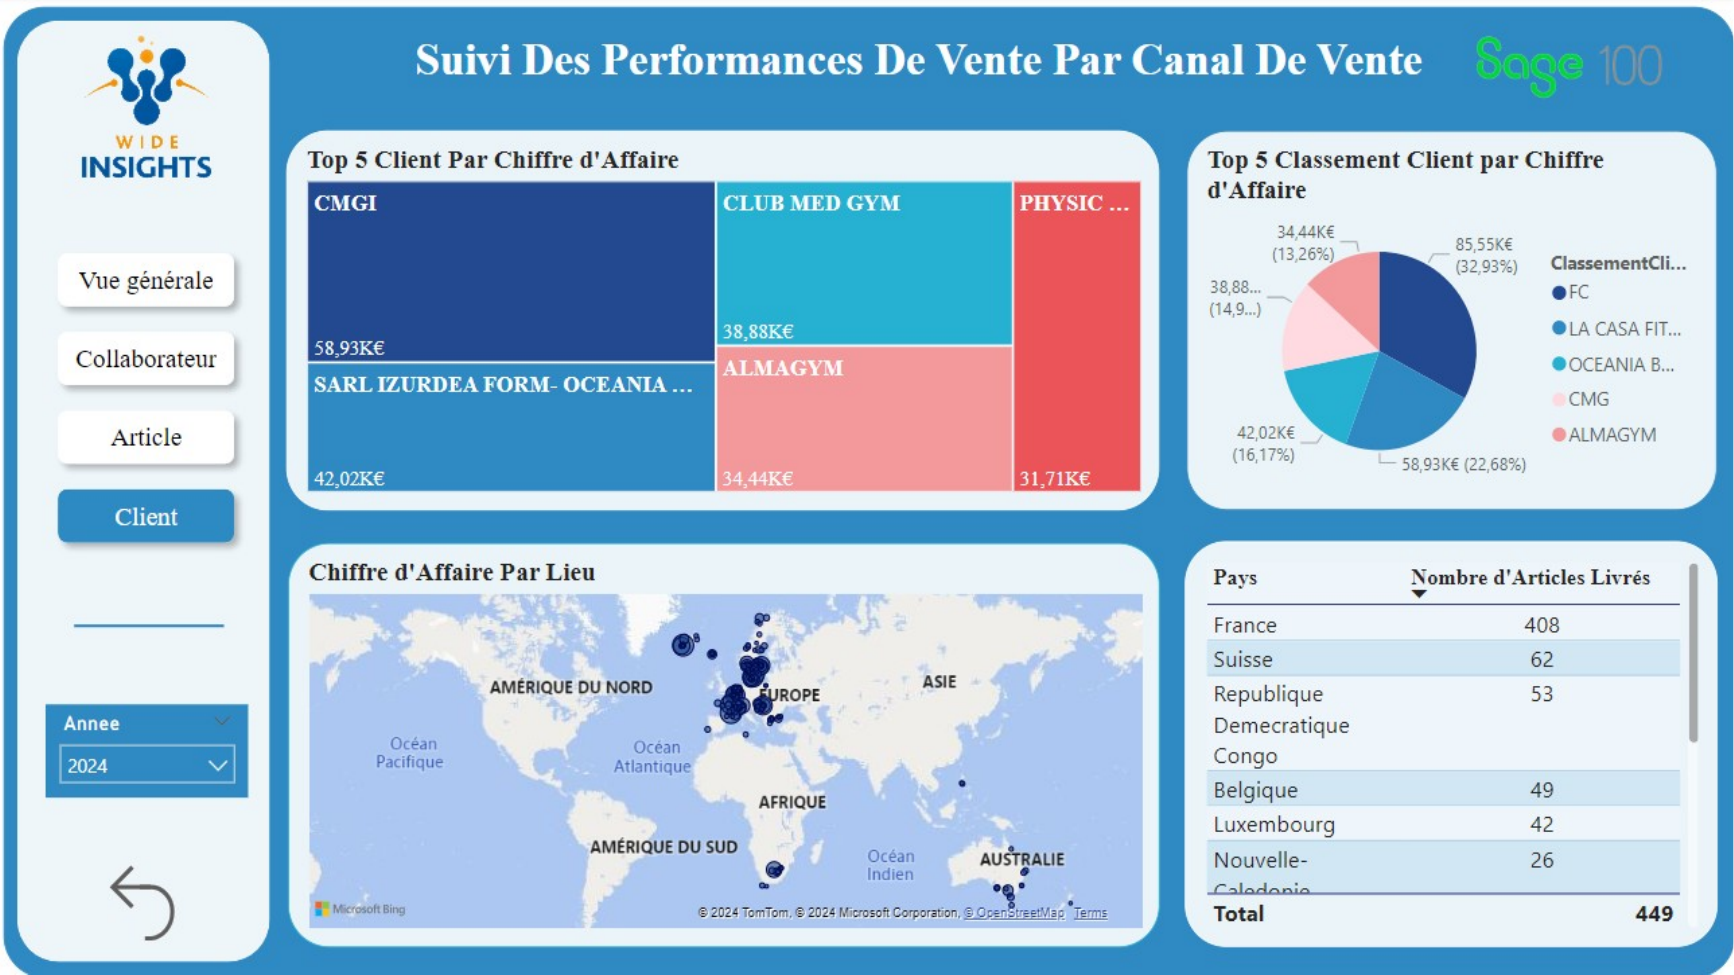

This screenshot's page, from the dashboard's own definition file:
{"tool":"powerbi","page":{"name":"Client","canvas":[1280,720],"ordinal":3},"visuals":[{"type":"textbox","box":[8.8,8.8,1258.8,691.2],"z":0},{"type":"shape","box":[18.8,18.8,183.8,670],"z":1000},{"type":"image","box":[31.8,21.8,161.2,115],"z":2000},{"type":"slicer","fields":{"Values":["Dim_Date.Annee"]},"box":[39.3,505.5,147.5,66.2],"z":3000},{"type":"actionButton","box":[75.5,613,78.8,67.5],"z":4000},{"type":"image","box":[1017.5,0,262.5,103.8],"z":5000},{"type":"pageNavigator","box":[39.3,174.6,146.6,224.2],"z":9000},{"type":"shape","box":[59.4,432.7,109,32.6],"z":10000},{"type":"tableEx","fields":{"Values":["Dim_LieuLivraison.PaysClient","Fact_Vente.IdArticle"]},"box":[867.5,388.8,387.5,288.8],"z":11000},{"type":"textbox","box":[231.2,22.5,885,73.8],"z":12000},{"type":"treemap","title":"Top 5 Client Par Chiffre d''Affaire","fields":{"Values":["Sum(Fact_Vente.MontantHT)"],"Group":["Dim_Client.IntituleClient"]},"box":[214.3,97.1,634.3,270],"z":13000},{"type":"map","title":"Chiffre d''Affaire Par Lieu","fields":{"Category":["Dim_LieuLivraison.CodeLieu"],"Size":["Sum(Fact_Vente.MontantHT)"]},"box":[215,390,633.9,288],"z":14000},{"type":"pieChart","title":"Top 5 Classement Client par Chiffre d''Affaire ","fields":{"Category":["Dim_Client.ClassementClient"],"Y":["Sum(Fact_Vente.MontantHT)"]},"box":[868.6,97.1,385.7,270],"z":15000}]}

Visuals, with their boxes in screenshot pixels (x1, y1, x2, y2), scaled from the page's 1280x720 canvas onto the 1734x975 screenshot:
textbox: region(12, 12, 1717, 948)
shape: region(25, 25, 274, 933)
image: region(43, 30, 261, 185)
slicer - Dim_Date.Annee: region(53, 685, 253, 774)
actionButton: region(102, 830, 209, 922)
image: region(1378, 0, 1733, 141)
pageNavigator: region(53, 236, 252, 540)
shape: region(80, 586, 228, 630)
tableEx - Dim_LieuLivraison.PaysClient x Fact_Vente.IdArticle: region(1175, 526, 1700, 918)
textbox: region(313, 30, 1512, 130)
"Top 5 Client Par Chiffre d''Affaire" treemap: region(290, 131, 1150, 497)
"Chiffre d''Affaire Par Lieu" map: region(291, 528, 1150, 918)
"Top 5 Classement Client par Chiffre d''Affaire " pieChart: region(1177, 131, 1699, 497)
